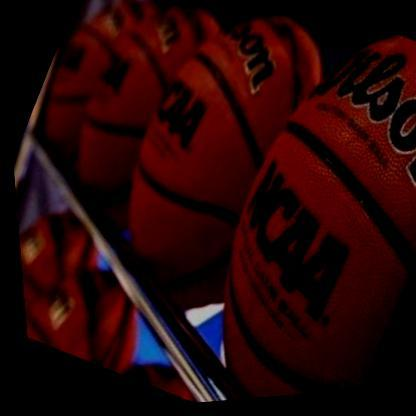basketball: (136, 2, 416, 407), (68, 0, 374, 337), (26, 0, 252, 256), (5, 0, 172, 189), (16, 239, 163, 386), (12, 184, 110, 352)
